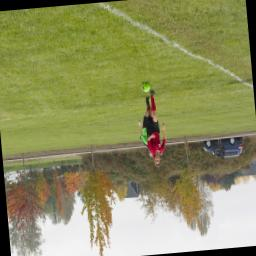football: (142, 81, 150, 92)
